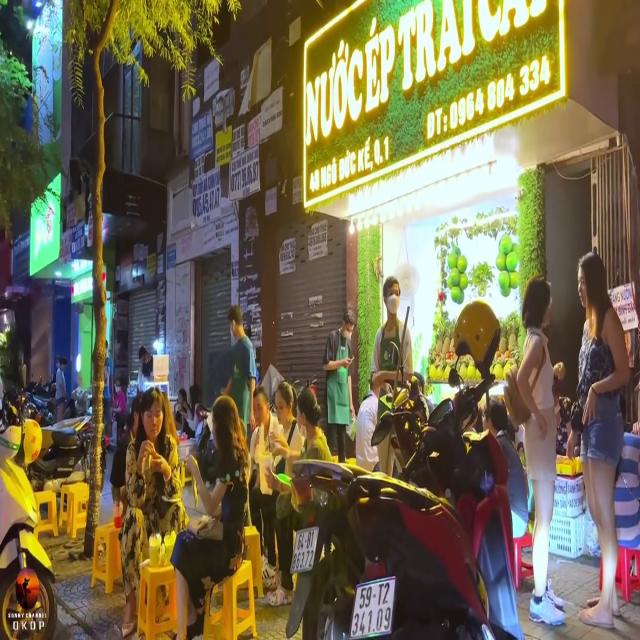bien_trang: (347, 581, 406, 640), (288, 524, 318, 574)
